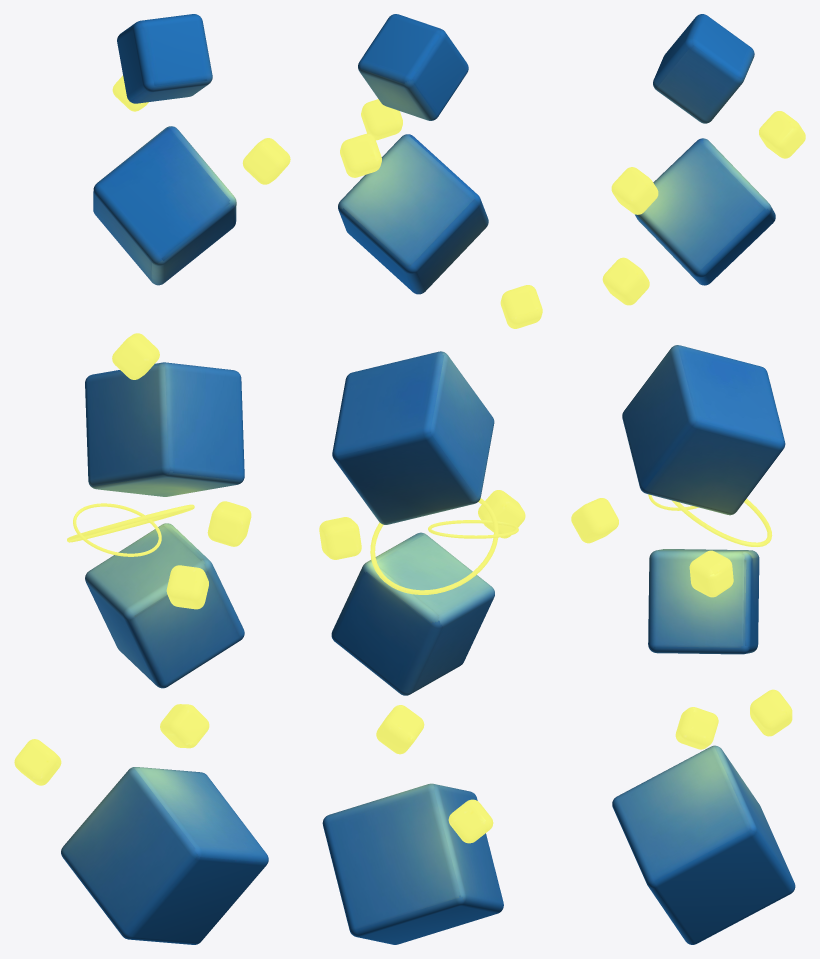
File: testMaps.7d5677a9.gltf
The picture shows the model from 3 angles, left to right: view 1: azimuth 30°, elevation 25°; view 2: azimuth 150°, elevation 25°; view 3: azimuth 270°, elevation 25°; orthographic projection. The views are drawn at different scales.
Parts seen in each view (by area): view 1: matCube; view 2: matCube; view 3: matCube.
Boxes of the visible parts, x1,y1,x2,y2 form: matCube: (14,14,290,944); matCube: (319,14,542,944); matCube: (571,14,805,944).
Bounding box in the file's own units: 3.67 × 16.09 × 3.77.
Materials: 1 (1 with a texture image).
